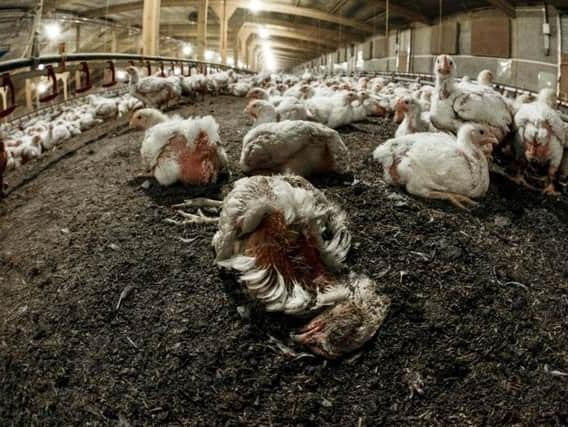AbNormal: (184, 171, 390, 352)
